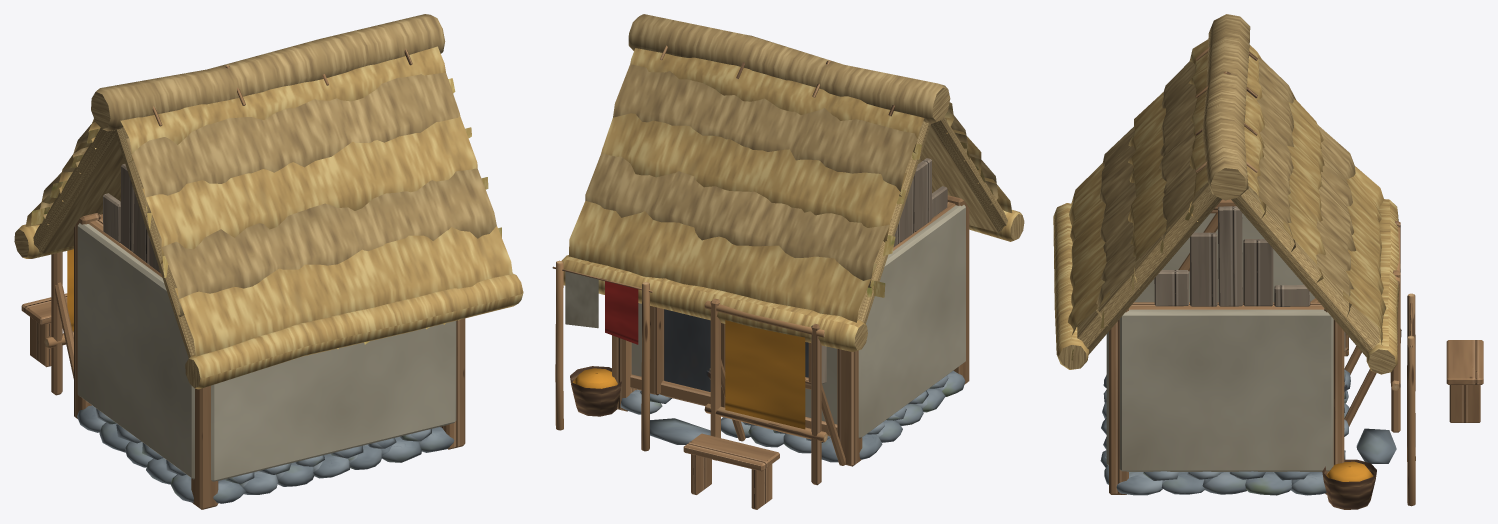
File: bw_weavers_hut.fbx
3 views of the same model, side by side, from view 1: azimuth 30°, elevation 25°; view 2: azimuth 150°, elevation 25°; view 3: azimuth 270°, elevation 25° (orthographic). The views are drawn at different scales.
Visible parts, largest first — view 1: bw_weavers_hut; view 2: bw_weavers_hut; view 3: bw_weavers_hut.
Part boxes in pixels (x1,y1,x2,y2): bw_weavers_hut: (14,14,523,509); bw_weavers_hut: (552,14,1024,509); bw_weavers_hut: (1053,14,1483,509).
Size of the model in its own units: 2.35 by 2.51 by 2.8.
